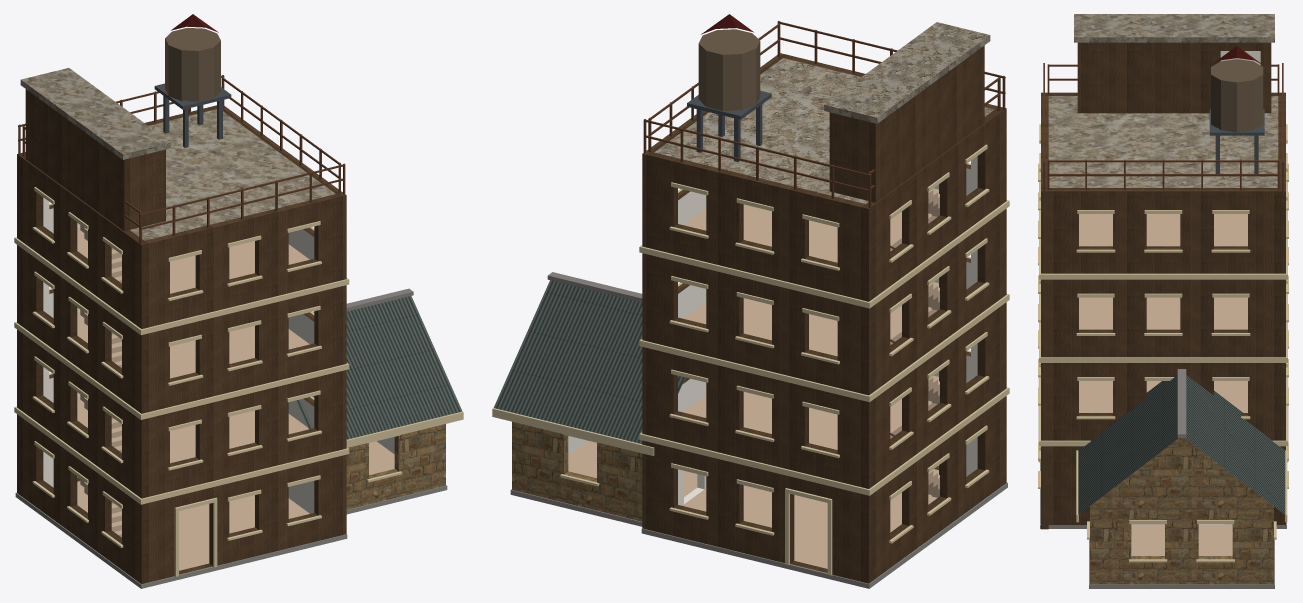
The model's file is rw-lookout-house.towns-v2.lod0.glb.
3 renders of one model, left to right at view 1: azimuth 30°, elevation 25°; view 2: azimuth 150°, elevation 25°; view 3: azimuth 270°, elevation 25°, orthographic. The views are drawn at different scales.
Parts seen in each view (by area): view 1: rw-lookout-house; view 2: rw-lookout-house; view 3: rw-lookout-house.
Part boxes in pixels (x1,y1,x2,y2): rw-lookout-house: (14,14,463,588); rw-lookout-house: (492,14,1009,588); rw-lookout-house: (1038,14,1288,588).
Size of the model in its own units: 12.74 by 16.47 by 8.18.
7 materials, 4 textured.
